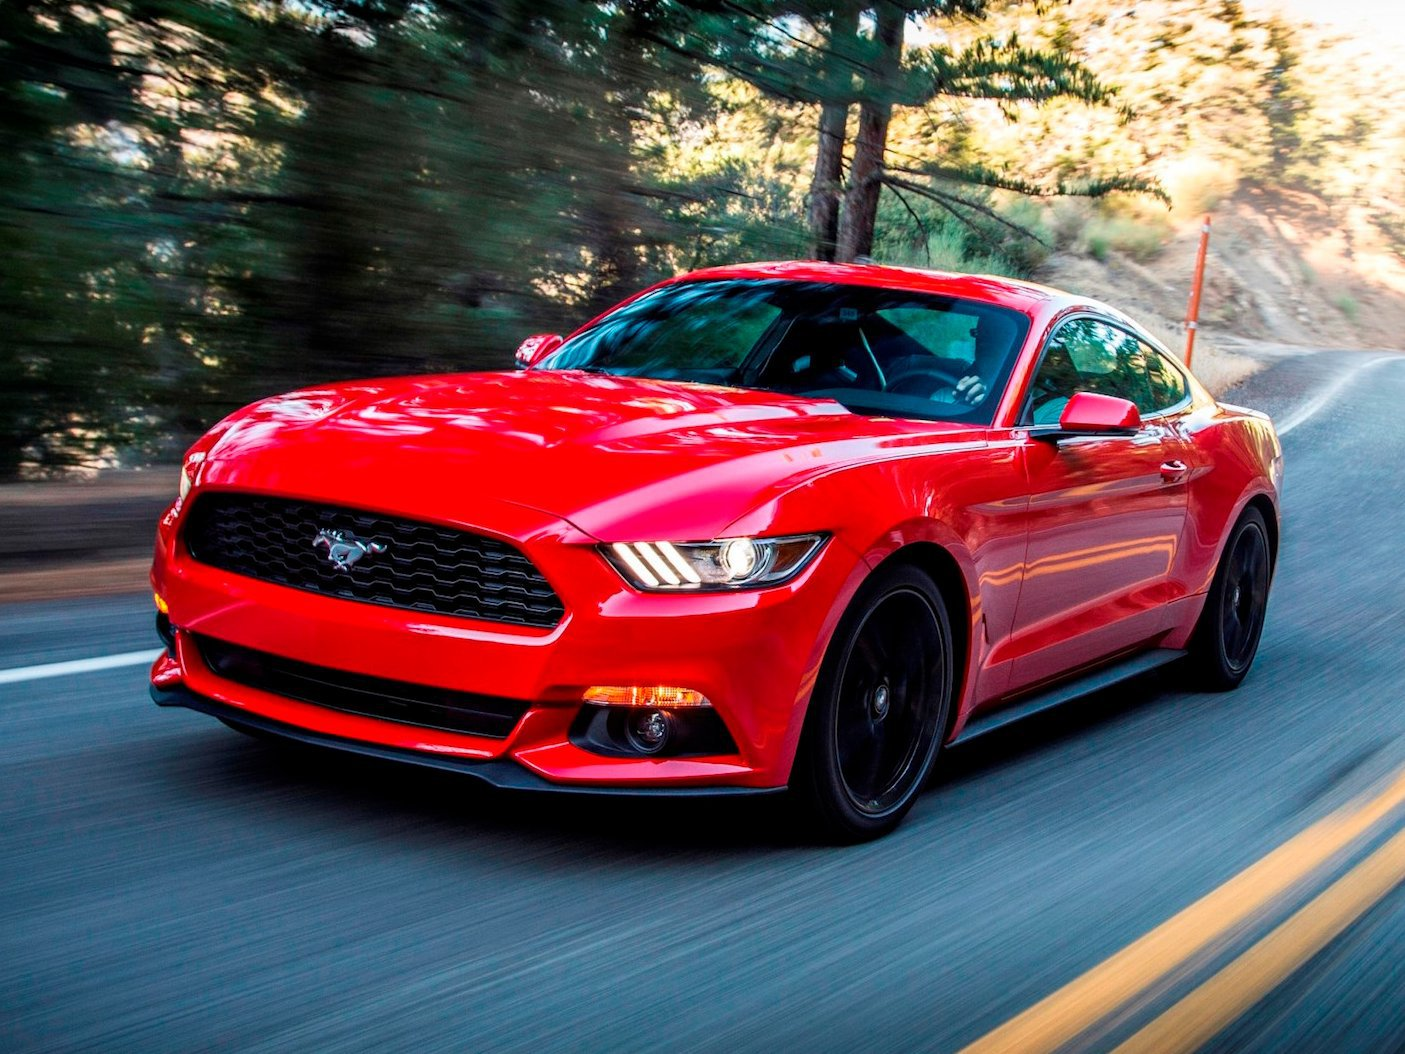car: (130, 254, 1290, 821)
